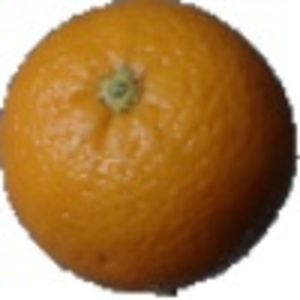laranja: (6, 4, 296, 298)
